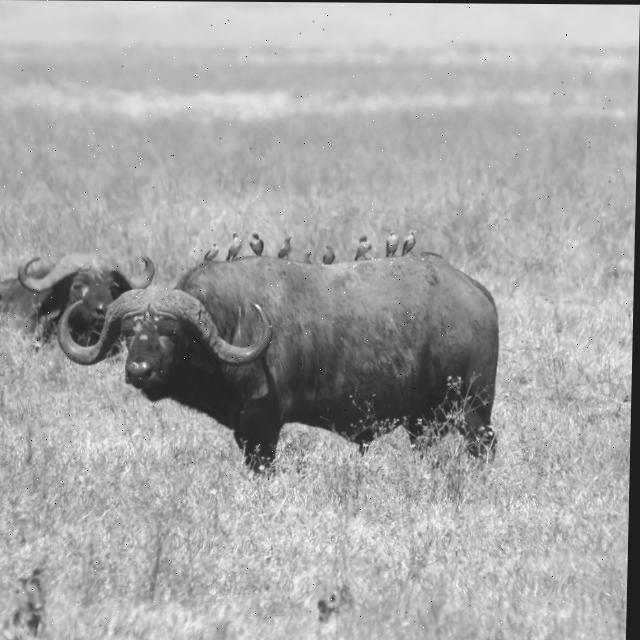Buffalo: (51, 250, 501, 481), (0, 249, 155, 353)
